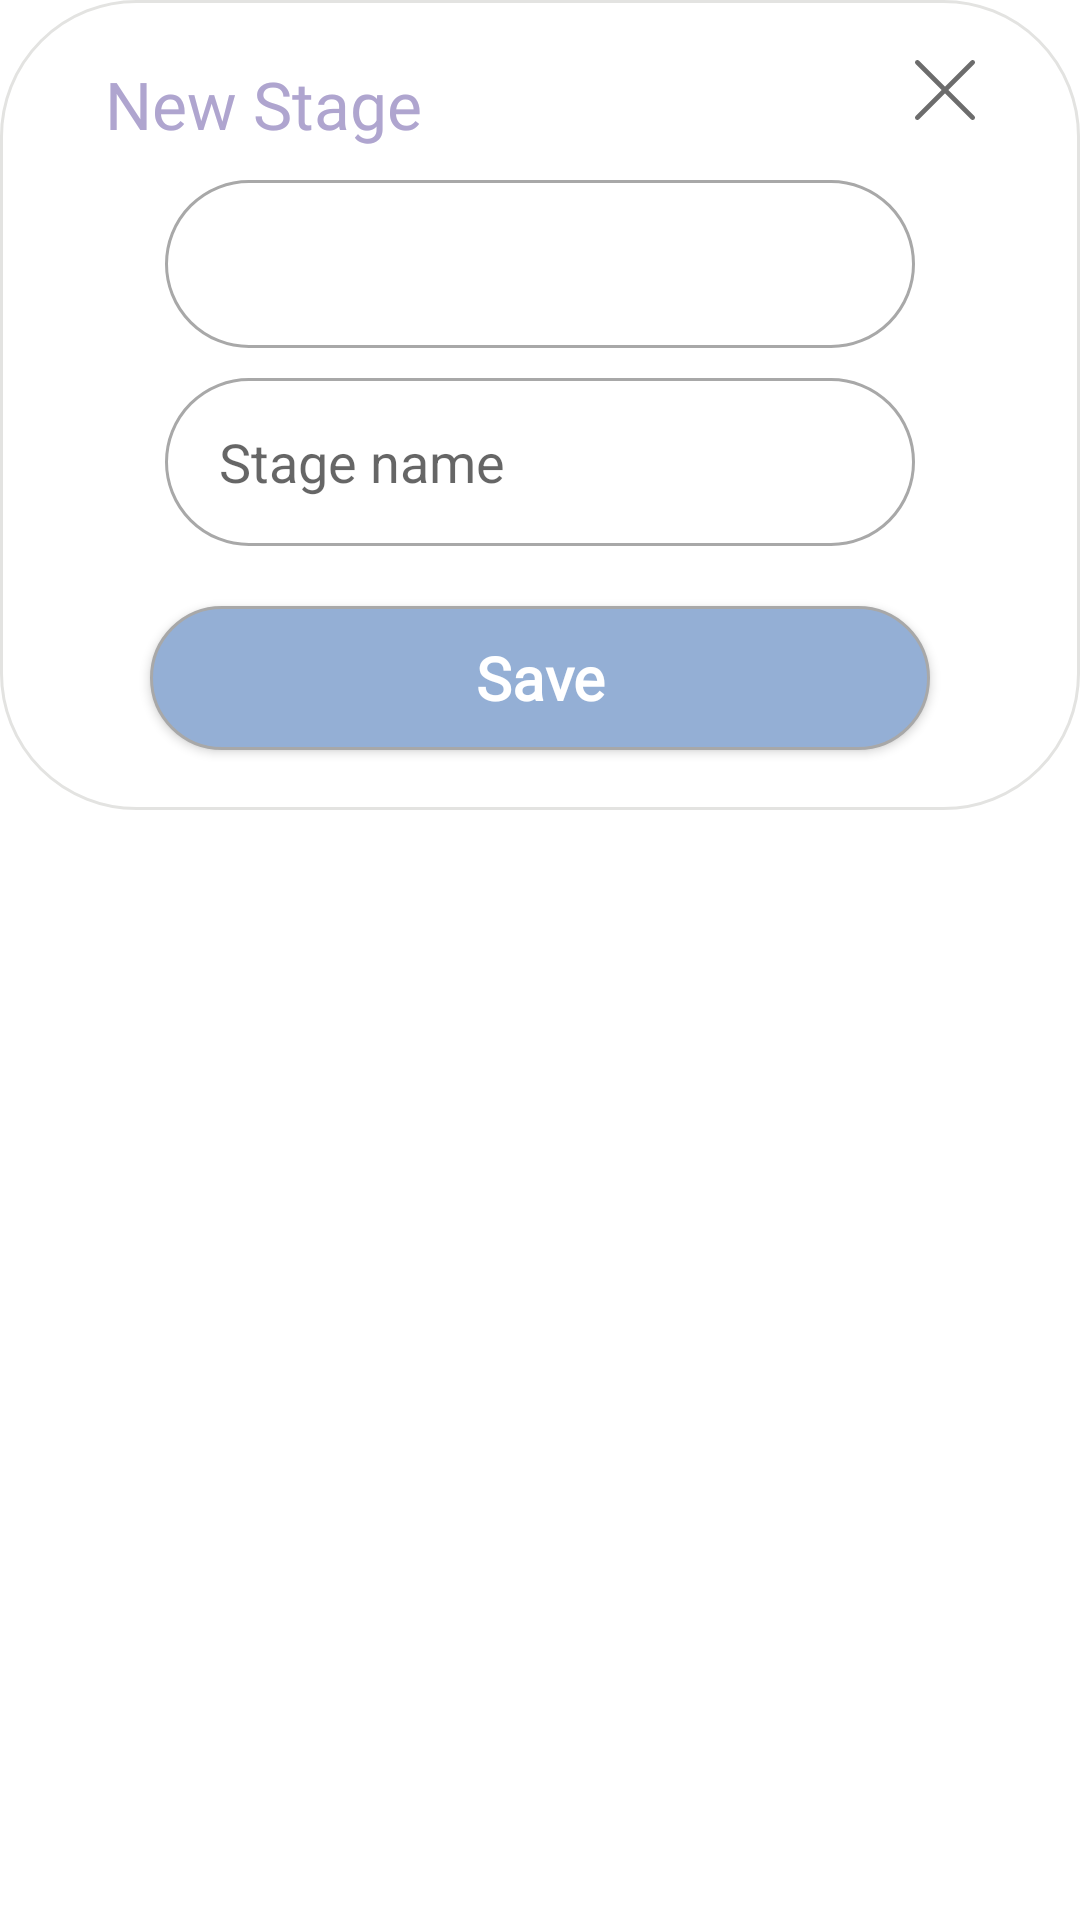

Icons on this 1080px×1920px Android screen, each with the point to tap as (x,y):
cancel: (945,90)
